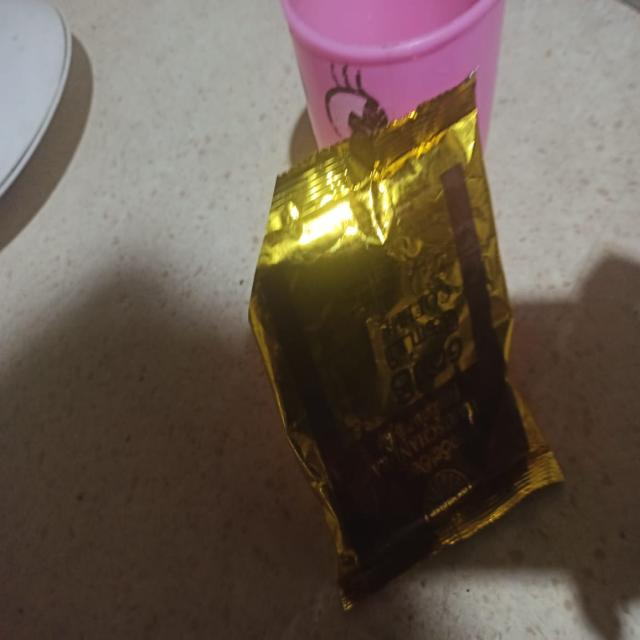Harischandra Coffee: (254, 168, 526, 513)
